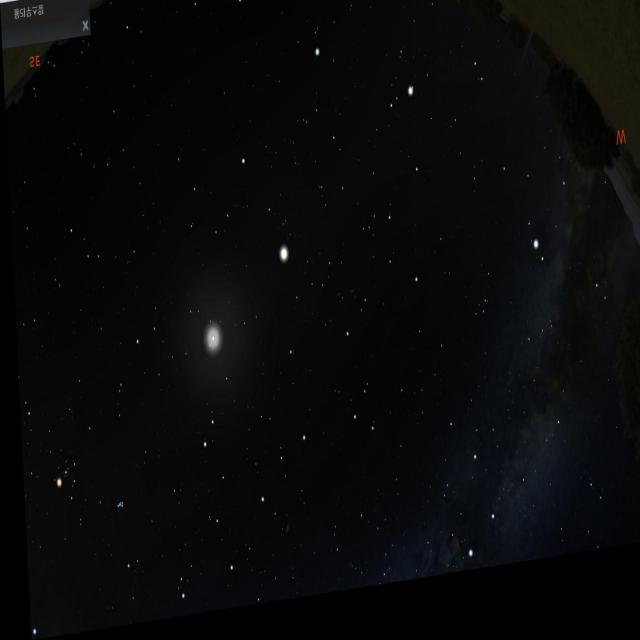aquila: (492, 132, 579, 287)
cygnus: (454, 424, 563, 585)
lyra: (571, 502, 605, 571)
moon: (181, 297, 243, 388)
pleiades: (102, 488, 128, 523)
taurus: (39, 411, 127, 546)
